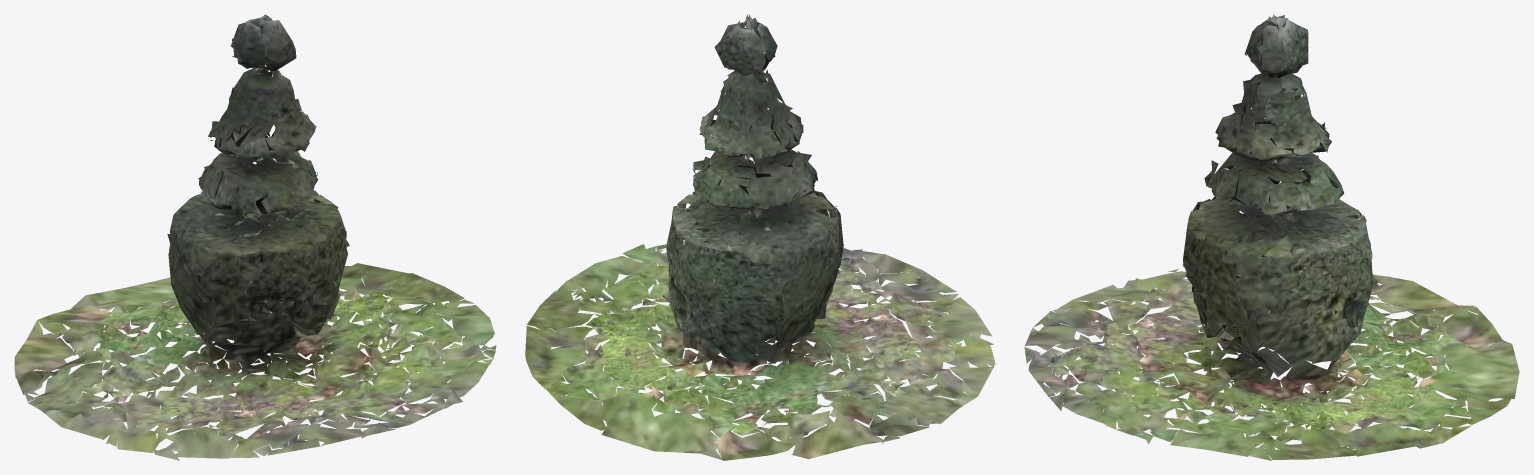
File: topiary-bell.glb
3 renders of one model, left to right at view 1: azimuth 30°, elevation 25°; view 2: azimuth 150°, elevation 25°; view 3: azimuth 270°, elevation 25°, orthographic. The views are drawn at different scales.
Parts seen in each view (by area): view 1: topiary-bell-test; view 2: topiary-bell-test; view 3: topiary-bell-test.
Boxes of the visible parts, x1,y1,x2,y2 form: topiary-bell-test: [14, 14, 496, 460]; topiary-bell-test: [525, 14, 995, 460]; topiary-bell-test: [1024, 14, 1519, 460].
Bounding box in the file's own units: 2.71 × 2.2 × 2.67.
1 material, 1 textured.
